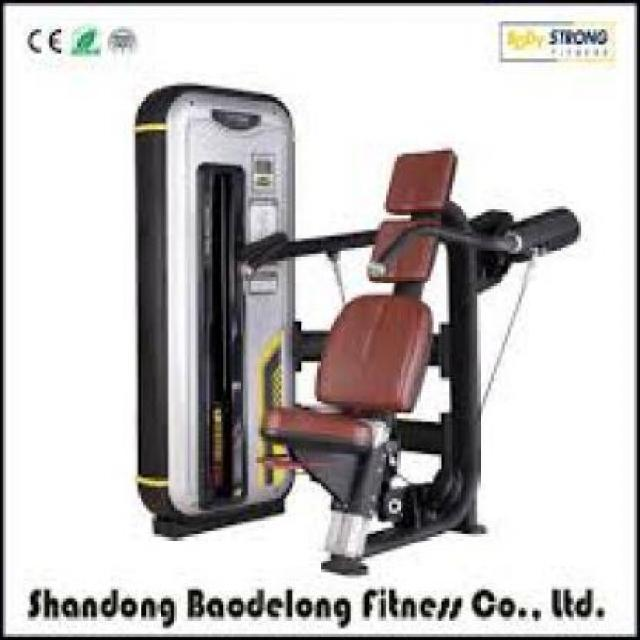shoulder press machine: (130, 69, 584, 585)
